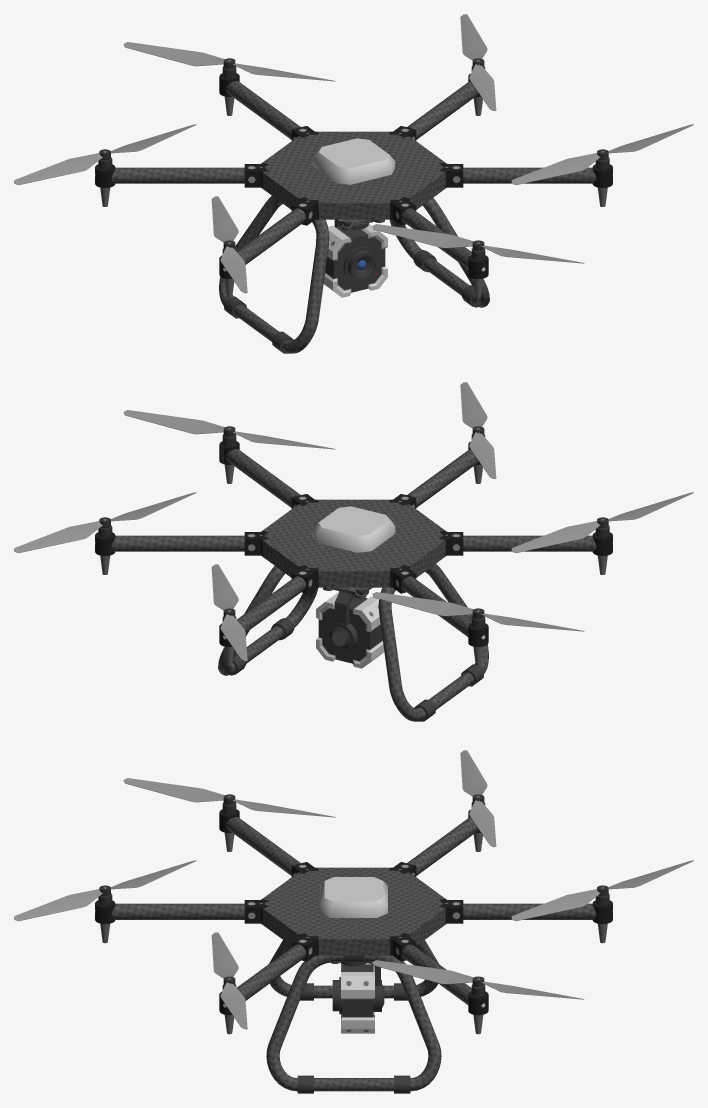
The model's file is Industrial.fbx.
3 views of the same model, one above another, from view 1: azimuth 30°, elevation 25°; view 2: azimuth 150°, elevation 25°; view 3: azimuth 270°, elevation 25° (orthographic).
Visible parts, largest first — view 1: Industrial drone_low, Industrial drone_low.008, Industrial drone_low.001, Industrial drone_low.004, Industrial drone_low.003, Industrial drone_low.006, Industrial drone_low.002, Industrial drone_low.005; view 2: Industrial drone_low, Industrial drone_low.008, Industrial drone_low.003, Industrial drone_low.006, Industrial drone_low.002, Industrial drone_low.005, Industrial drone_low.004, Industrial drone_low.001, Industrial drone_low.007; view 3: Industrial drone_low, Industrial drone_low.008, Industrial drone_low.002, Industrial drone_low.005, Industrial drone_low.001, Industrial drone_low.004, Industrial drone_low.006, Industrial drone_low.003.
Boxes of the visible parts, x1,y1,x2,y2 form: Industrial drone_low: [95, 73, 612, 353]; Industrial drone_low.008: [316, 224, 387, 297]; Industrial drone_low.001: [372, 224, 584, 263]; Industrial drone_low.004: [123, 42, 335, 81]; Industrial drone_low.003: [14, 124, 196, 185]; Industrial drone_low.006: [511, 124, 693, 184]; Industrial drone_low.002: [211, 196, 247, 293]; Industrial drone_low.005: [460, 14, 496, 110]; Industrial drone_low: [95, 441, 612, 721]; Industrial drone_low.008: [316, 592, 384, 668]; Industrial drone_low.003: [372, 592, 584, 631]; Industrial drone_low.006: [123, 410, 335, 449]; Industrial drone_low.002: [511, 492, 693, 552]; Industrial drone_low.005: [14, 492, 196, 553]; Industrial drone_low.004: [211, 564, 247, 661]; Industrial drone_low.001: [460, 382, 496, 478]; Industrial drone_low.007: [334, 591, 368, 626]; Industrial drone_low: [95, 809, 612, 1093]; Industrial drone_low.008: [332, 963, 384, 1033]; Industrial drone_low.002: [123, 778, 335, 817]; Industrial drone_low.005: [372, 960, 584, 999]; Industrial drone_low.001: [14, 860, 196, 921]; Industrial drone_low.004: [511, 860, 693, 921]; Industrial drone_low.006: [211, 932, 247, 1029]; Industrial drone_low.003: [460, 750, 496, 847].
Size of the model in its own units: 0.5703 by 0.1512 by 0.5887.
